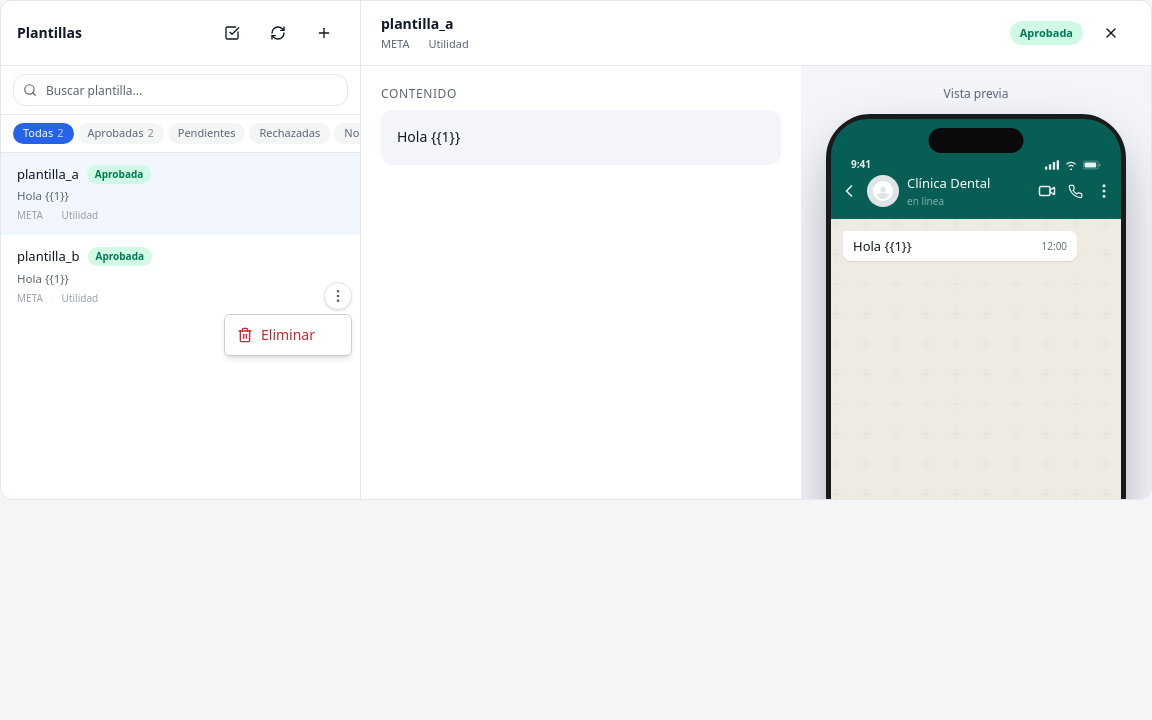
Eliminar plantillas › elimina una desde el menú de su fila, tras confirmar con las consecuencias
This screenshot has width=1152, height=720.
Earlier steps of the test are not shown.
Later steps or results of the test are not shown.
Step 1. Click the menu item "Eliminar" → point(276, 334), box [237, 325, 315, 344]
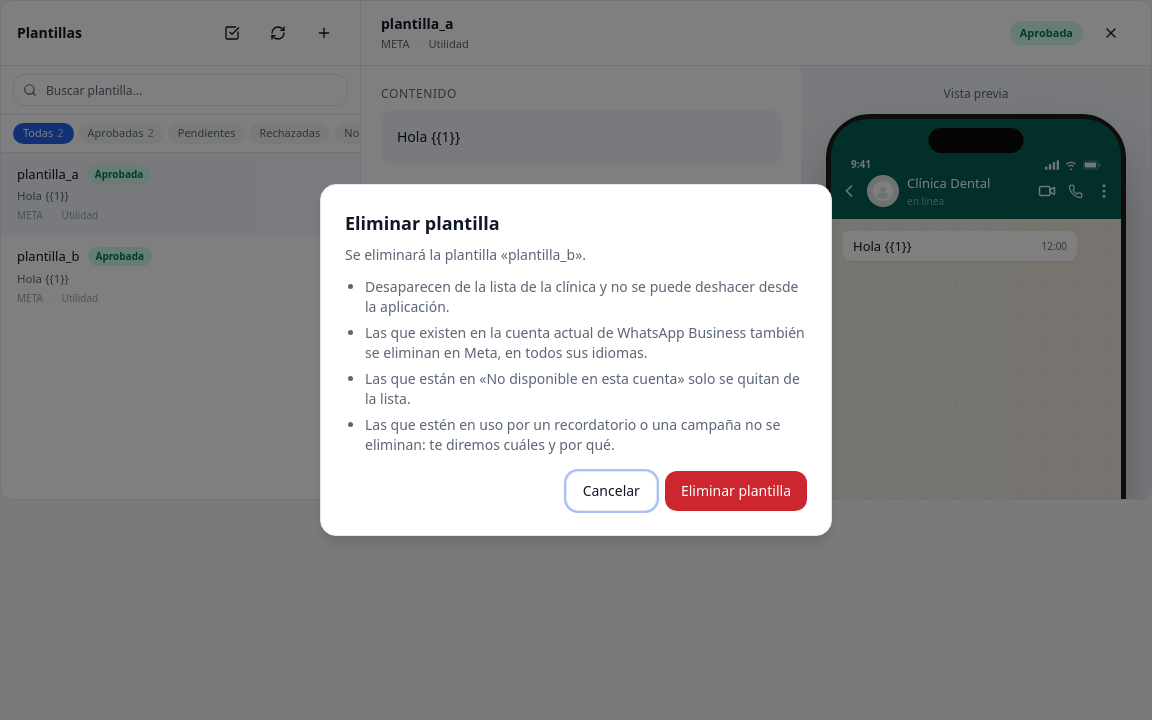
Now the dialog shows "Se eliminará la plantilla «plantilla_b».", box [345, 245, 586, 264]
Now the dialog shows "no se puede deshacer desde la aplicación", box [365, 277, 798, 316]
Now the dialog shows "también se eliminan en Meta, en todos sus idiomas", box [365, 323, 805, 362]
